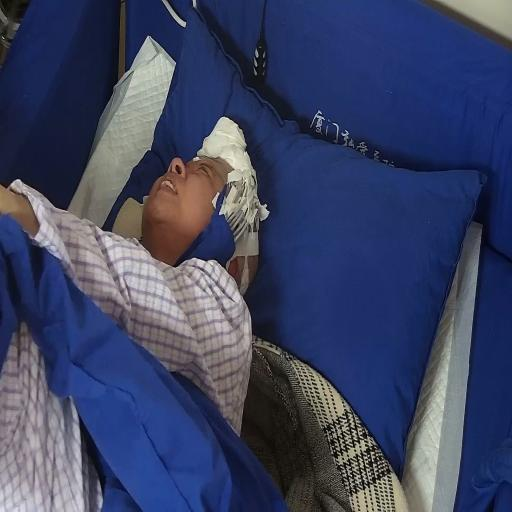Seizure: (143, 126, 248, 265)
